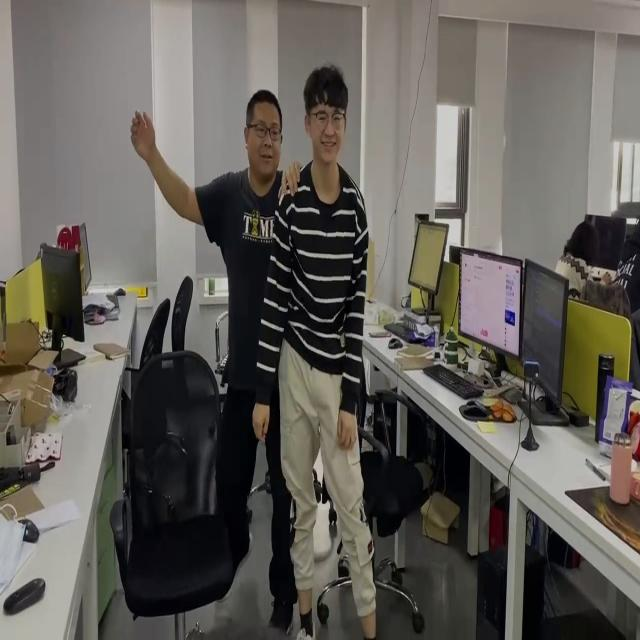non-fight: (128, 86, 302, 634), (254, 60, 383, 640)
